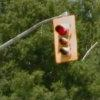Traffic light: (41, 11, 76, 67)
